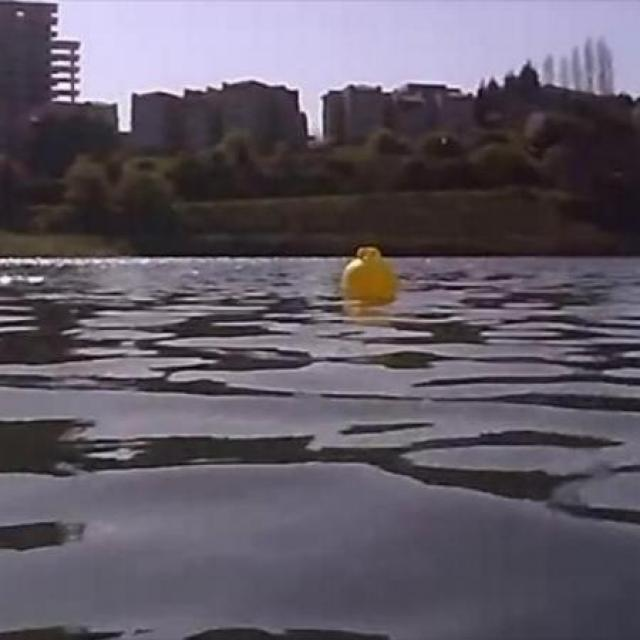buoy: (341, 246, 397, 299)
